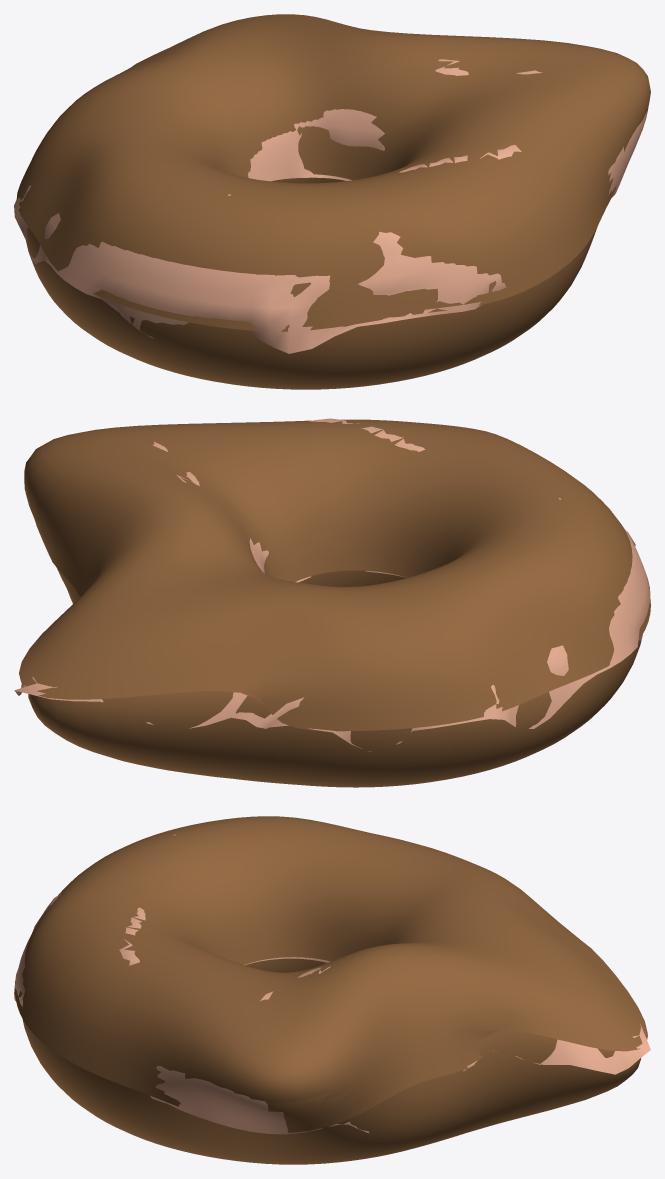
The model's file is doo.glb.
The picture shows the model from 3 angles, top to bottom: view 1: azimuth 30°, elevation 25°; view 2: azimuth 150°, elevation 25°; view 3: azimuth 270°, elevation 25°; orthographic projection. The views are drawn at different scales.
Parts seen in each view (by area): view 1: Torus, suger; view 2: Torus, suger; view 3: Torus, suger.
Part boxes in pixels (box(x1,y1,x2,y2)): Torus: box(16, 14, 650, 389); suger: box(14, 59, 648, 353); Torus: box(19, 419, 650, 787); suger: box(14, 418, 650, 751); Torus: box(14, 816, 647, 1164); suger: box(14, 834, 650, 1134).
Size of the model in its own units: 3.54 by 1.15 by 3.49.
